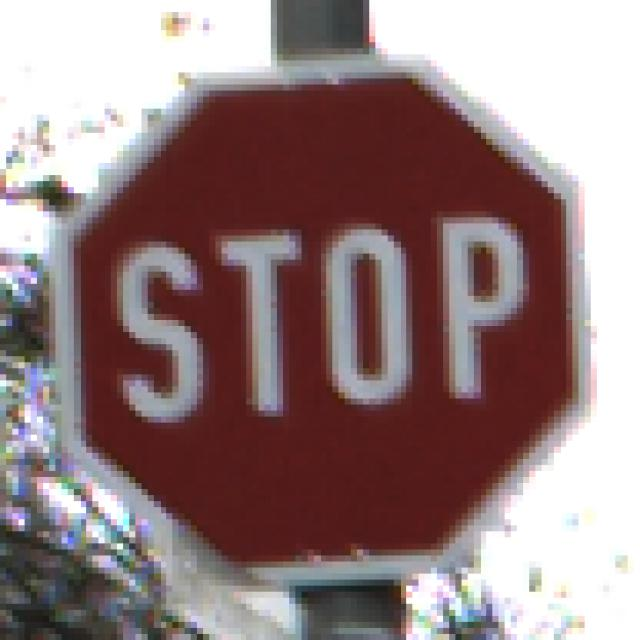STOP: (63, 55, 586, 587)
